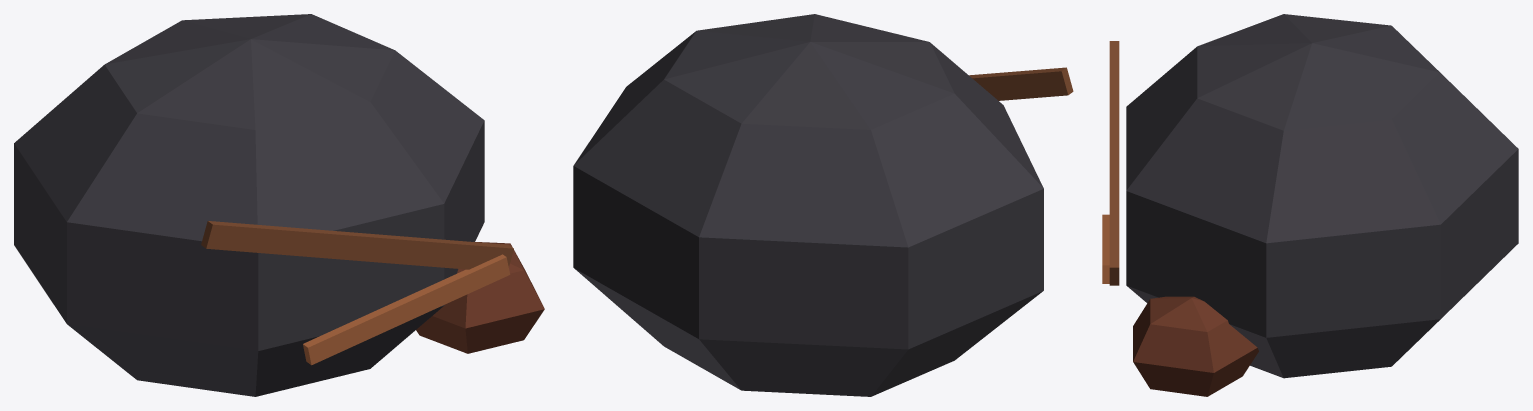
File: a2f_ore_vein_rock.glb
3 renders of one model, left to right at view 1: azimuth 30°, elevation 25°; view 2: azimuth 150°, elevation 25°; view 3: azimuth 270°, elevation 25°, orthographic. The views are drawn at different scales.
Visible parts, largest first — view 1: a2f_ore_vein_rock; view 2: a2f_ore_vein_rock; view 3: a2f_ore_vein_rock.
Part boxes in pixels (x1,y1,x2,y2): a2f_ore_vein_rock: (14,14,544,396); a2f_ore_vein_rock: (573,14,1073,396); a2f_ore_vein_rock: (1102,14,1518,396).
Size of the model in its own units: 1.91 by 1.4 by 1.73.
